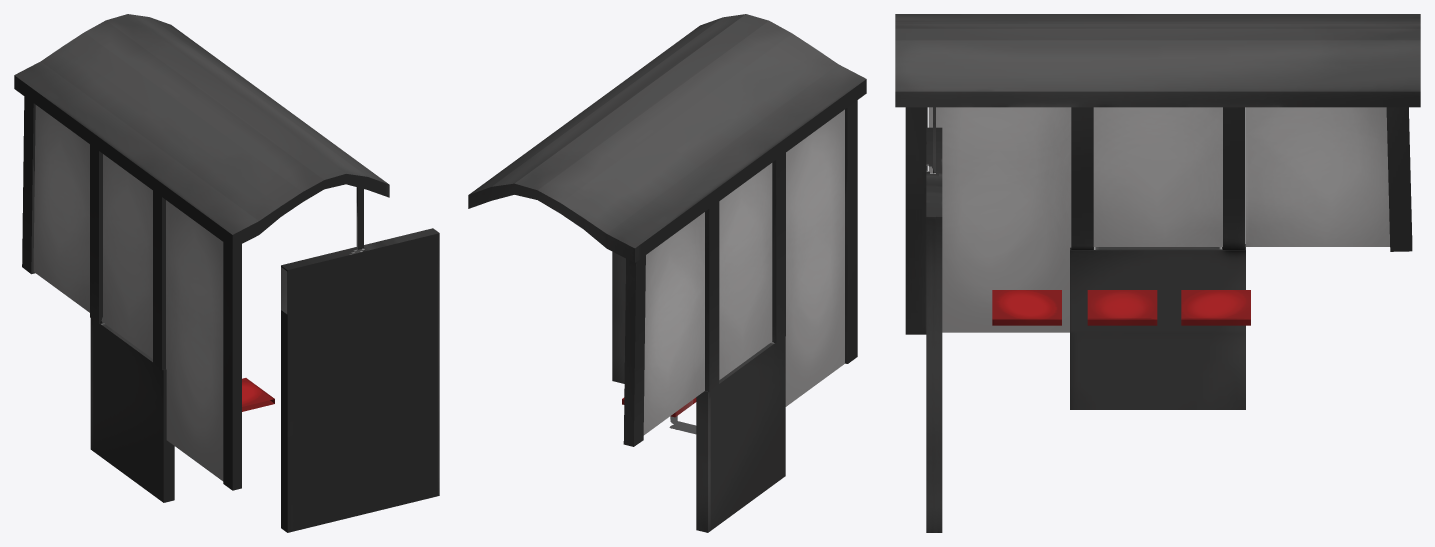
Rendered from BusStop.fbx.
3 views of the same model, side by side, from view 1: azimuth 30°, elevation 25°; view 2: azimuth 150°, elevation 25°; view 3: azimuth 270°, elevation 25° (orthographic). The views are drawn at different scales.
Parts seen in each view (by area): view 1: BusStop; view 2: BusStop; view 3: BusStop.
Boxes of the visible parts, x1=… form: BusStop: x1=14, y1=14, x2=439, y2=532; BusStop: x1=468, y1=14, x2=866, y2=532; BusStop: x1=895, y1=14, x2=1420, y2=532.
Bounding box in the file's own units: 424 × 658 × 728.
Materials: 1 (1 with a texture image).
